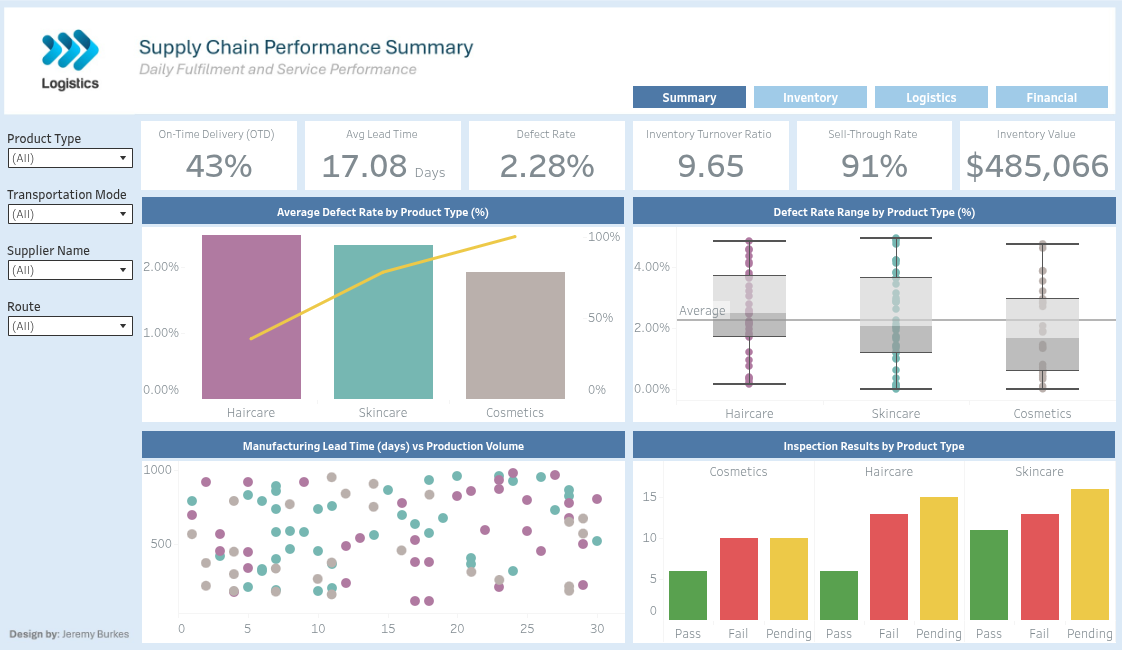

The dashboard page shown, as its layout file describes it:
{"tool":"tableau","page":{"name":"Dashboard - Fulfillment & Customer Service","canvas":[1150,700],"ordinal":1},"visuals":[{"type":"image","param":"Image/Supply Chain Performance Summary.jpg","box":[8,8,1134,684]},{"type":"dashboard-object","box":[644,107,121,30]},{"type":"dashboard-object","box":[765,107,121,30]},{"type":"dashboard-object","box":[886,107,121,30]},{"type":"dashboard-object","box":[1007,107,120,30]},{"type":"worksheet","title":"BAN - On-Time Delivery (OTD)","mark":"Automatic","box":[152,127,164,92]},{"type":"worksheet","title":"BAN - Avg Lead Time","mark":"Automatic","box":[316,127,164,92]},{"type":"worksheet","title":"BAN - Defect Rate","mark":"Automatic","box":[480,127,164,92]},{"type":"worksheet","title":"BAN - Inventory Turnover Ratio","mark":"Automatic","box":[644,127,164,92]},{"type":"worksheet","title":"BAN - Sell-Through Rate","mark":"Automatic","box":[808,127,163,92]},{"type":"worksheet","title":"BAN - Inventory Value","mark":"Automatic","box":[971,127,163,92]},{"type":"filter","title":"BAN - Avg Lead Time","param":"[federated.04jst2d1lxguf61d4ar2i03frmzp].[none:Product type:nk]","box":[18,150,135,56]},{"type":"filter","title":"BAN - Avg Lead Time","param":"[federated.04jst2d1lxguf61d4ar2i03frmzp].[none:Transportation modes:nk]","box":[18,206,135,56]},{"type":"worksheet","title":"Average Defect Rate by Product Type (%)","mark":"Automatic","rows":["Calculation_0014408516038678","Defect rates"],"cols":["Product type"],"box":[153,218,491,233]},{"type":"worksheet","title":"Defect Rate Range by Product Type (%)","mark":"Circle","rows":["Calculation_0014476930334756"],"cols":["Product type"],"box":[644,218,491,233]},{"type":"filter","title":"BAN - Avg Lead Time","param":"[federated.04jst2d1lxguf61d4ar2i03frmzp].[none:Supplier name:nk]","box":[18,262,135,56]},{"type":"filter","title":"BAN - Avg Lead Time","param":"[federated.04jst2d1lxguf61d4ar2i03frmzp].[none:Routes:nk]","box":[18,318,135,56]},{"type":"worksheet","title":"Manufacturing Lead Time (days) vs Production Volume","mark":"Automatic","rows":["Production volumes"],"cols":["Manufacturing lead time"],"box":[153,452,491,220]},{"type":"worksheet","title":"Inspection Results by Product Type","mark":"Automatic","rows":["Inspection results"],"cols":["Product type","Inspection results"],"box":[644,452,491,220]}]}

Visuals, with their boxes on the page's 1150x700 design canvas (x1, y1, x2, y2). These are canvas units, not pixel positions in the 1122x650 screenshot, which may show the page scaled, cropped or inside an application window:
image: (8, 8, 1142, 692)
dashboard-object: (644, 107, 765, 137)
dashboard-object: (765, 107, 886, 137)
dashboard-object: (886, 107, 1007, 137)
dashboard-object: (1007, 107, 1127, 137)
"BAN - On-Time Delivery (OTD)" worksheet: (152, 127, 316, 219)
"BAN - Avg Lead Time" worksheet: (316, 127, 480, 219)
"BAN - Defect Rate" worksheet: (480, 127, 644, 219)
"BAN - Inventory Turnover Ratio" worksheet: (644, 127, 808, 219)
"BAN - Sell-Through Rate" worksheet: (808, 127, 971, 219)
"BAN - Inventory Value" worksheet: (971, 127, 1134, 219)
"BAN - Avg Lead Time" filter: (18, 150, 153, 206)
"BAN - Avg Lead Time" filter: (18, 206, 153, 262)
"Average Defect Rate by Product Type (%)" worksheet: (153, 218, 644, 451)
"Defect Rate Range by Product Type (%)" worksheet (Circle marks): (644, 218, 1135, 451)
"BAN - Avg Lead Time" filter: (18, 262, 153, 318)
"BAN - Avg Lead Time" filter: (18, 318, 153, 374)
"Manufacturing Lead Time (days) vs Production Volume" worksheet: (153, 452, 644, 672)
"Inspection Results by Product Type" worksheet: (644, 452, 1135, 672)
